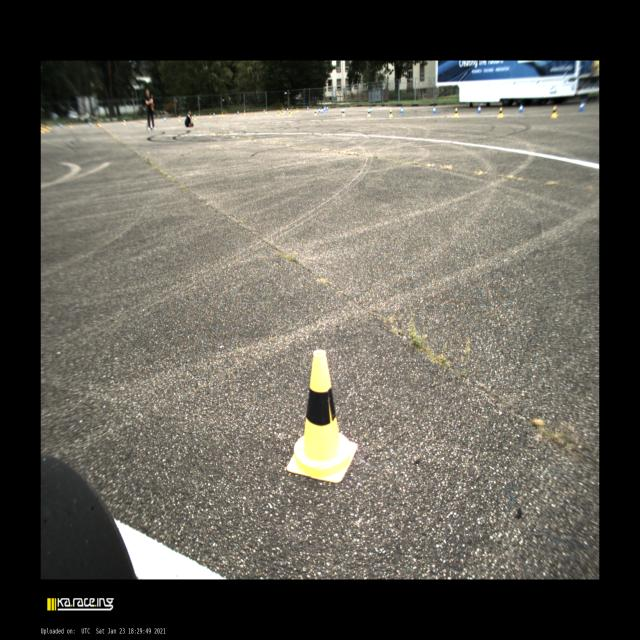blue_cone: (579, 101, 584, 111), (519, 104, 523, 112), (478, 105, 481, 113), (400, 107, 404, 113), (433, 106, 436, 113), (369, 107, 372, 113), (321, 108, 324, 114), (88, 122, 92, 126), (318, 108, 321, 113), (59, 123, 62, 128), (324, 106, 326, 112), (341, 108, 343, 113), (164, 117, 166, 122), (326, 107, 328, 111), (307, 106, 309, 110), (263, 109, 265, 113), (213, 112, 215, 116), (287, 107, 288, 112), (125, 120, 126, 125), (238, 110, 239, 114)
yellow_cone: (286, 350, 358, 483), (551, 106, 557, 118), (498, 107, 503, 118), (454, 108, 458, 117), (389, 109, 393, 117), (367, 110, 371, 117), (314, 109, 317, 116), (178, 115, 181, 122), (342, 110, 345, 116), (281, 109, 284, 115), (69, 122, 72, 128), (98, 120, 101, 126), (277, 111, 280, 116), (290, 108, 292, 114), (123, 119, 125, 125), (194, 114, 196, 120), (289, 111, 291, 116), (283, 108, 285, 113), (265, 109, 267, 114), (210, 113, 212, 118), (244, 110, 246, 115), (296, 108, 298, 112), (222, 112, 223, 117)
